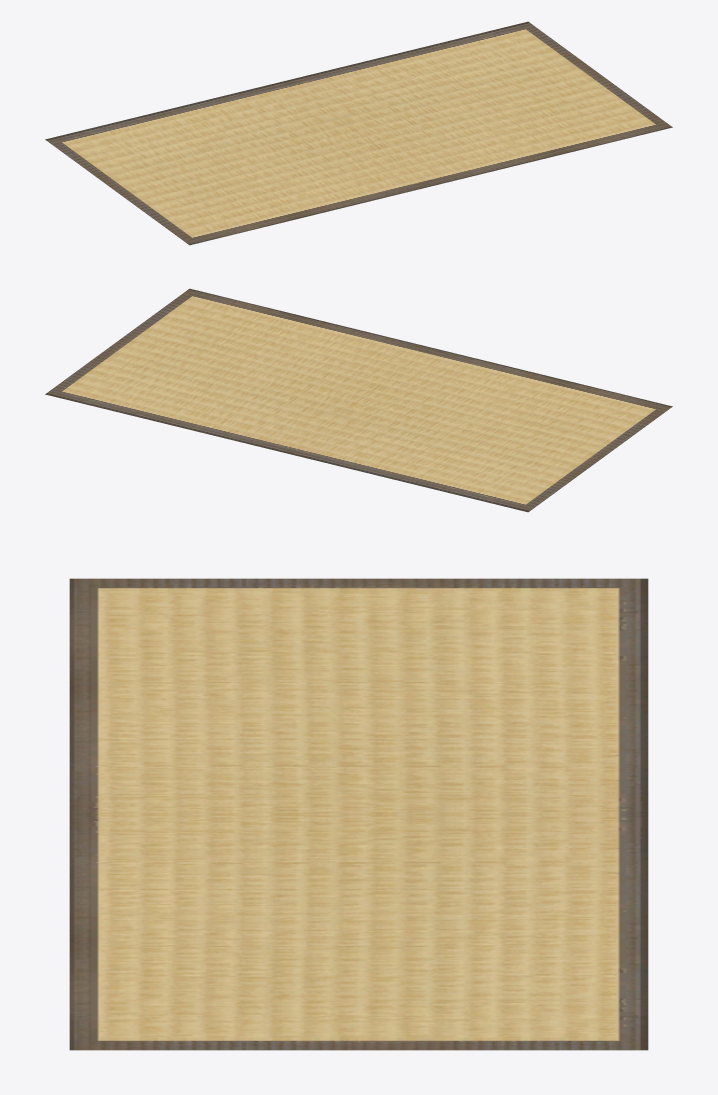
Rendered from Tatami1.a.fbx.
3 renders of one model, top to bottom at view 1: azimuth 30°, elevation 25°; view 2: azimuth 150°, elevation 25°; view 3: azimuth 270°, elevation 25°, orthographic. The views are drawn at different scales.
Parts seen in each view (by area): view 1: Group 0; view 2: Group 0; view 3: Group 0.
Boxes of the visible parts, box(x1,y1,x2,y2) form: Group 0: box(45, 21, 672, 245); Group 0: box(45, 288, 672, 512); Group 0: box(69, 578, 648, 1050).
Size of the model in its own units: 185 by 1.01e-05 by 85.
1 material, 1 textured.
